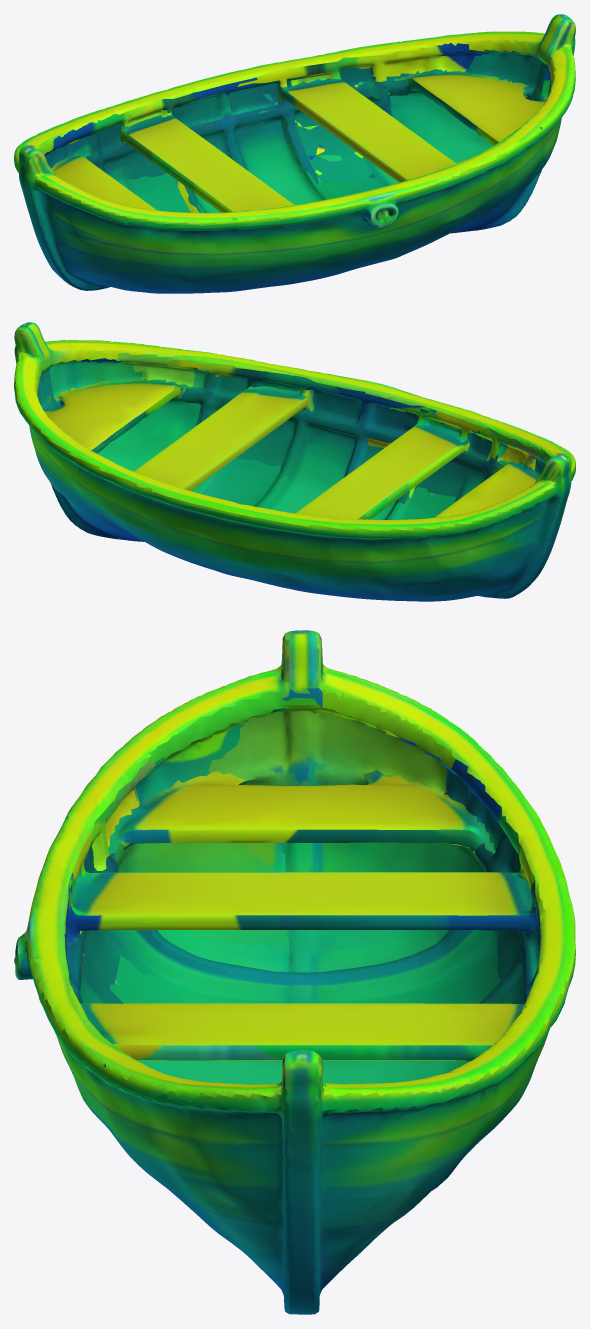
File: barca.glb
3 views of the same model, one above another, from view 1: azimuth 30°, elevation 25°; view 2: azimuth 150°, elevation 25°; view 3: azimuth 270°, elevation 25° (orthographic). The views are drawn at different scales.
Parts seen in each view (by area): view 1: tmpz8bjhs41.ply; view 2: tmpz8bjhs41.ply; view 3: tmpz8bjhs41.ply.
Part boxes in pixels (left/top/right/bottom): tmpz8bjhs41.ply: left=14, top=14, right=575, bottom=293; tmpz8bjhs41.ply: left=14, top=322, right=575, bottom=601; tmpz8bjhs41.ply: left=14, top=630, right=575, bottom=1314.
Bounding box in the file's own units: 1.96 × 0.65 × 1.06.
Materials: 1 (1 with a texture image).
